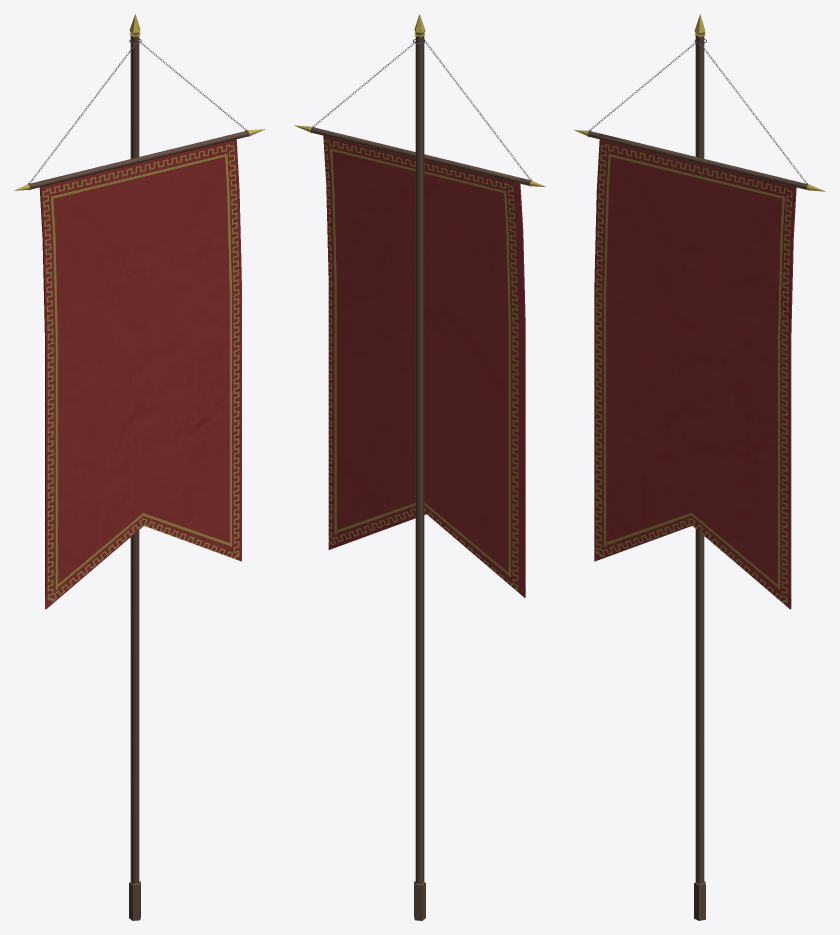
The model's file is Small Flag.fbx.
The picture shows the model from 3 angles, left to right: view 1: azimuth 30°, elevation 25°; view 2: azimuth 150°, elevation 25°; view 3: azimuth 330°, elevation 25°; orthographic projection.
Parts seen in each view (by area): view 1: Flag, Cylinder016, Banner_02; view 2: Flag, Cylinder016, Banner_02; view 3: Flag, Cylinder016, Banner_02.
Part boxes in pixels (<box>): Flag: <box>14,129,265,609</box>; Cylinder016: <box>129,14,140,920</box>; Banner_02: <box>29,39,247,183</box>; Flag: <box>294,125,545,597</box>; Cylinder016: <box>414,14,425,920</box>; Banner_02: <box>312,39,530,179</box>; Flag: <box>574,130,825,609</box>; Cylinder016: <box>694,14,705,920</box>; Banner_02: <box>589,39,807,183</box>.
Size of the model in its own units: 3.08 by 10.57 by 0.2493.
1 material, 1 textured.
